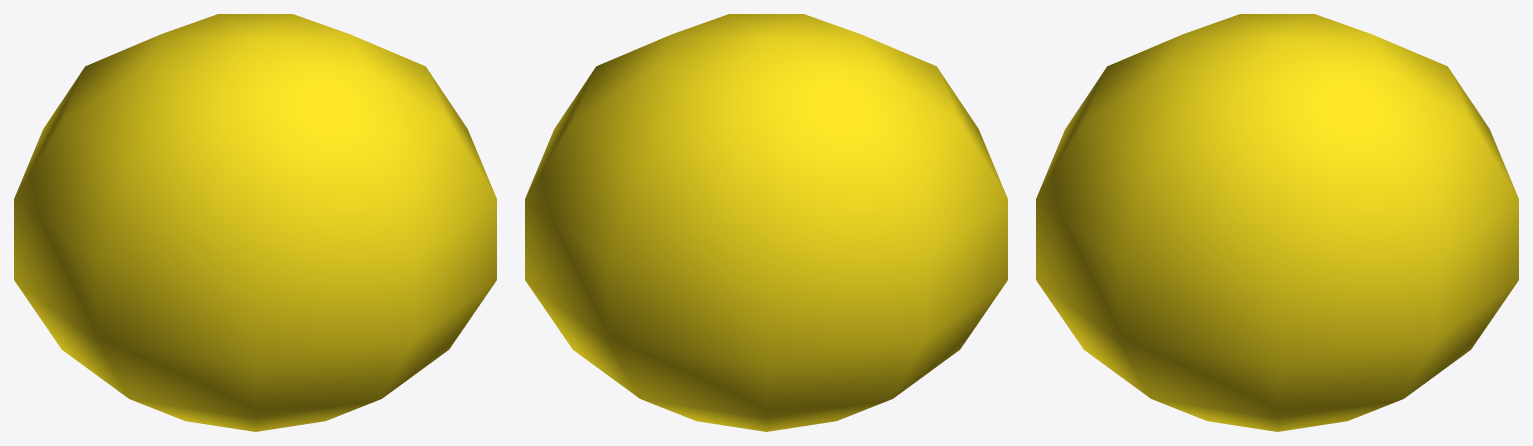
Rendered from sparkling_stage1.obj.
3 views of the same model, side by side, from view 1: azimuth 30°, elevation 25°; view 2: azimuth 150°, elevation 25°; view 3: azimuth 270°, elevation 25° (orthographic).
Size of the model in its own units: 1.23 by 1.04 by 1.25.
